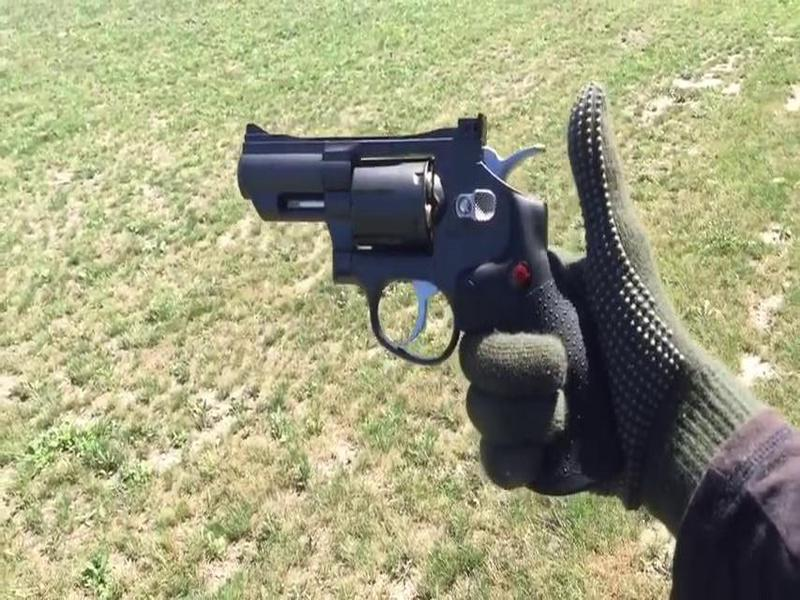Revolver: (210, 92, 645, 507)
